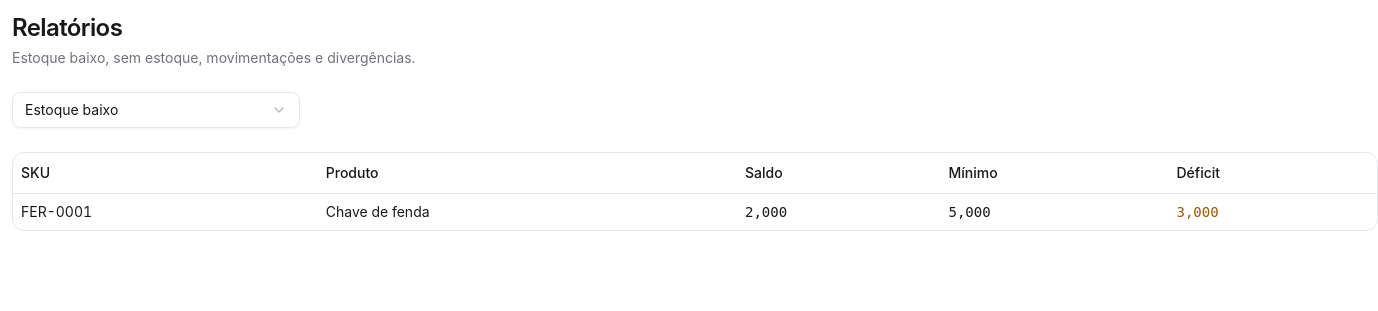
Test: ReportsPage › ADMIN vê todas as seis opções de relatório
Check: the text "Chave de fenda" is shown, box [318,194,737,230]
Step 1. Click the dropdown → coordinates (72, 110), box [12,92,300,128]
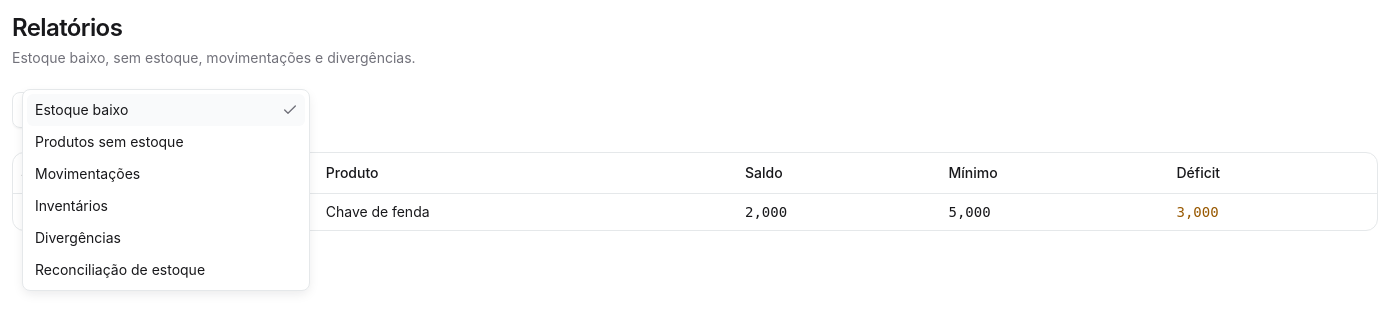
Check: the option "Reconciliação de estoque" is shown, box [35,261,205,278]
Check: the option "Divergências" is shown, box [35,229,121,246]
Check: the option "Inventários" is shown, box [35,197,108,214]
